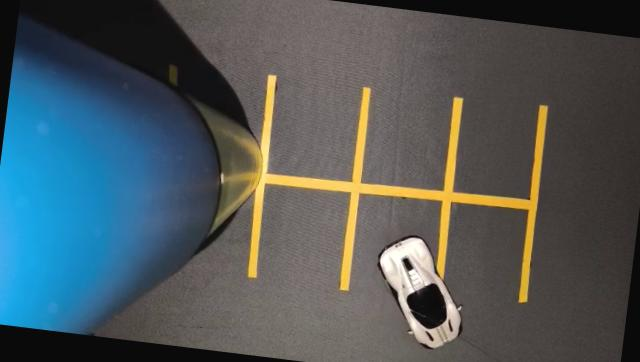toy_car: (354, 203, 490, 362)
